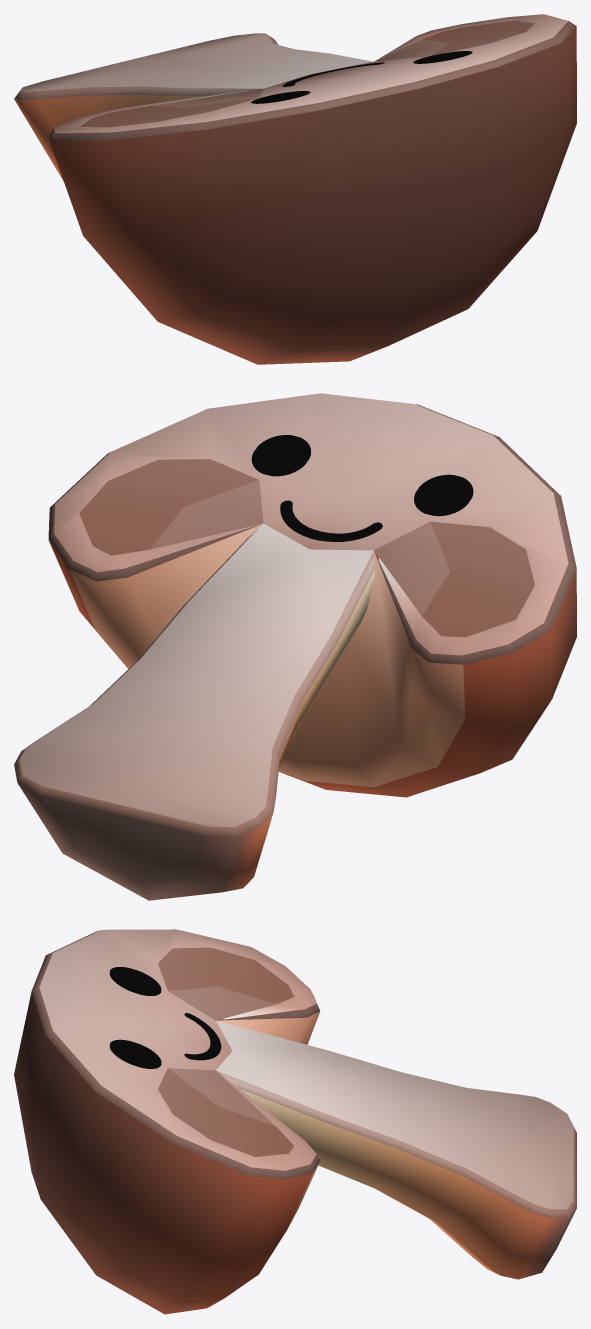
The model's file is mushroom_half_smile.fbx.
3 renders of one model, top to bottom at view 1: azimuth 30°, elevation 25°; view 2: azimuth 150°, elevation 25°; view 3: azimuth 270°, elevation 25°, orthographic. The views are drawn at different scales.
Visible parts, largest first — view 1: mushroom_half_smile; view 2: mushroom_half_smile; view 3: mushroom_half_smile.
Boxes of the visible parts, x1=… form: mushroom_half_smile: x1=14, y1=14, x2=576, y2=364; mushroom_half_smile: x1=14, y1=393, x2=576, y2=900; mushroom_half_smile: x1=14, y1=929, x2=576, y2=1314.
Size of the model in its own units: 41.04 by 43.15 by 25.54.
Materials: 2 (2 with a texture image).
